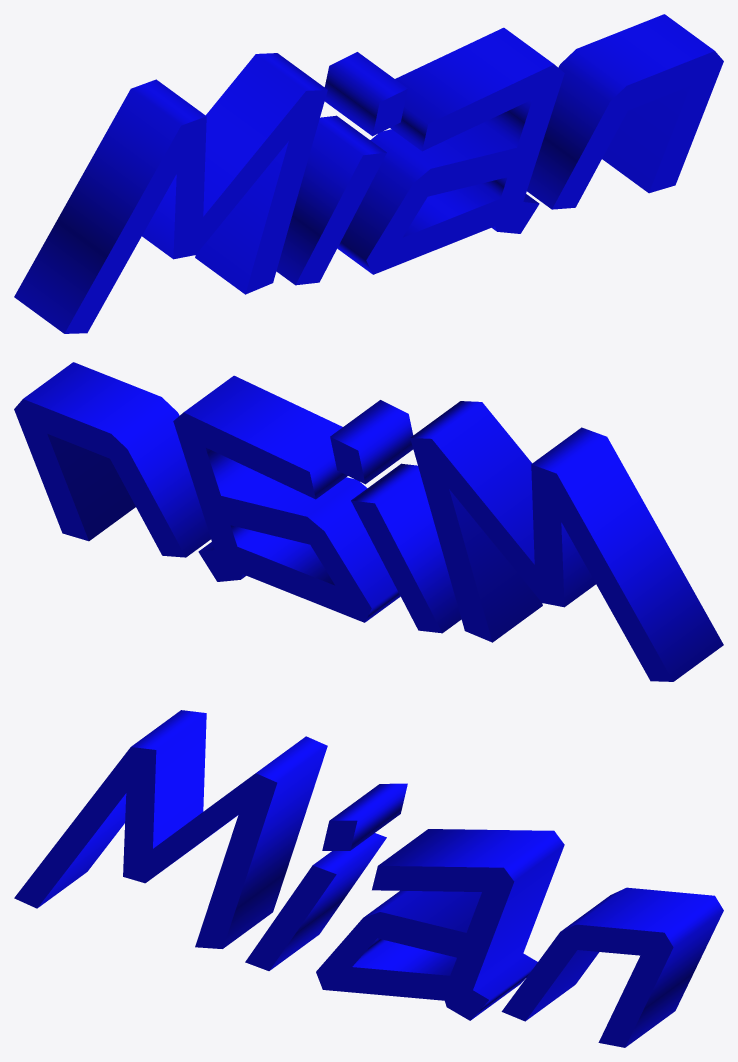
3 views of the same model, one above another, from view 1: azimuth 30°, elevation 25°; view 2: azimuth 150°, elevation 25°; view 3: azimuth 330°, elevation 25° (orthographic).
Parts seen in each view (by area): view 1: Text; view 2: Text; view 3: Text.
Boxes of the visible parts, x1=… form: Text: x1=14, y1=14, x2=723, y2=333; Text: x1=14, y1=362, x2=723, y2=681; Text: x1=14, y1=710, x2=723, y2=1047.
Bounding box in the file's own units: 3.4 × 0.9873 × 0.45.
